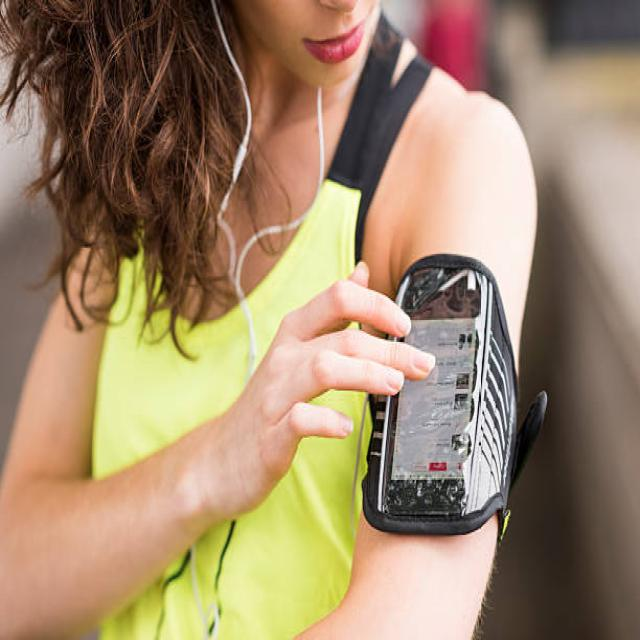Earphone: (212, 0, 325, 302), (216, 0, 325, 297)
